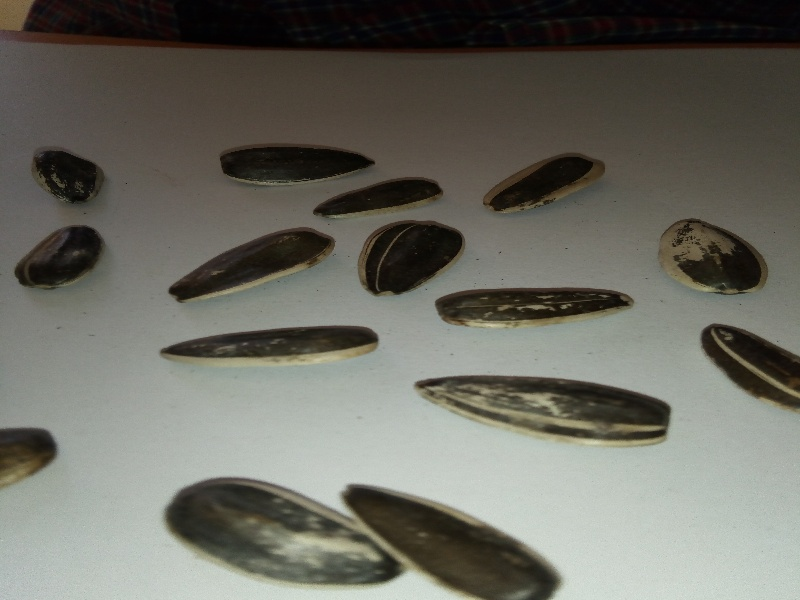girasol: (403, 364, 678, 462), (160, 225, 348, 307), (148, 324, 390, 376), (431, 280, 637, 337), (477, 140, 615, 223), (650, 214, 773, 306), (9, 216, 113, 296), (21, 138, 117, 211)
